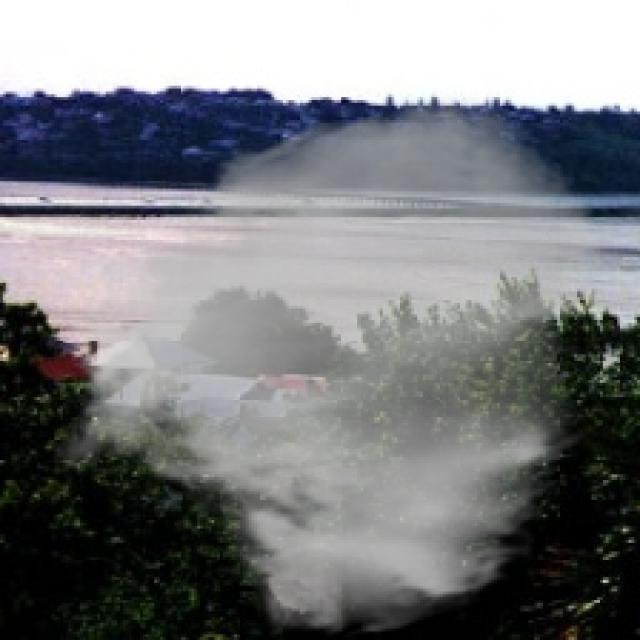Smoke: (51, 92, 608, 638)
